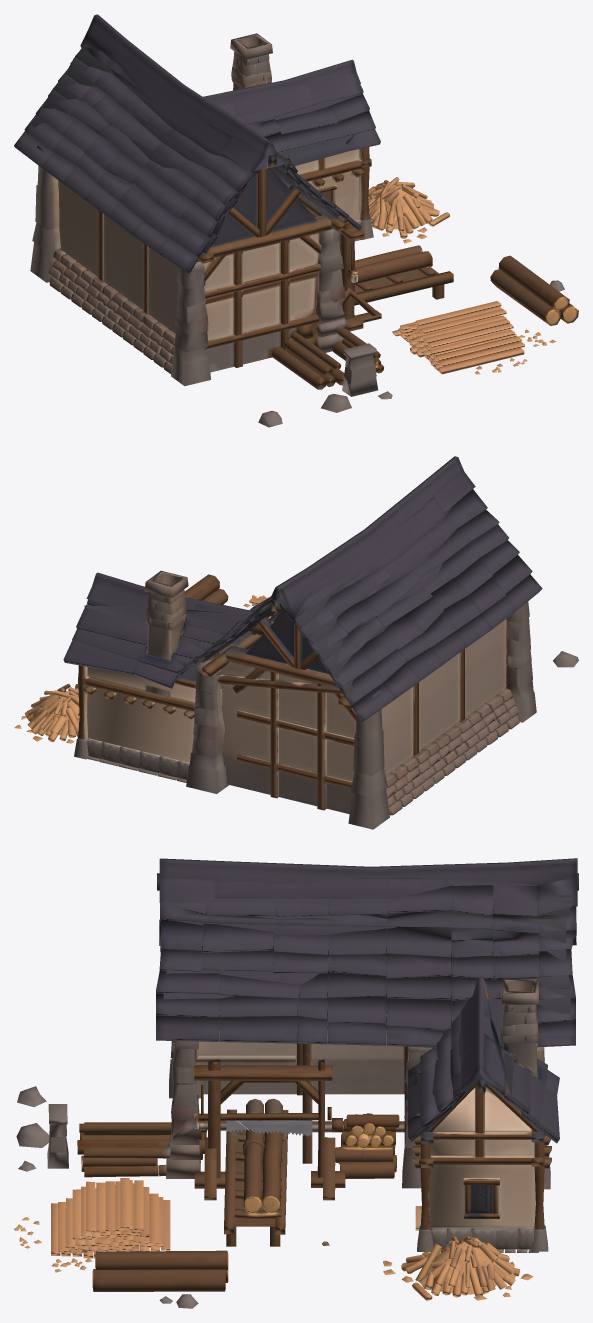
File: aserradero.fbx
3 views of the same model, one above another, from view 1: azimuth 30°, elevation 25°; view 2: azimuth 150°, elevation 25°; view 3: azimuth 270°, elevation 25° (orthographic). The views are drawn at different scales.
Parts seen in each view (by area): view 1: tripo_0ebf6600_338a_408d_af5c_f4c7a06f3e27; view 2: tripo_0ebf6600_338a_408d_af5c_f4c7a06f3e27; view 3: tripo_0ebf6600_338a_408d_af5c_f4c7a06f3e27.
Boxes of the visible parts, x1,y1,x2,y2 form: tripo_0ebf6600_338a_408d_af5c_f4c7a06f3e27: (14, 14, 578, 427); tripo_0ebf6600_338a_408d_af5c_f4c7a06f3e27: (14, 456, 578, 829); tripo_0ebf6600_338a_408d_af5c_f4c7a06f3e27: (14, 858, 578, 1308).
Size of the model in its own units: 95.65 by 53.66 by 99.95.
